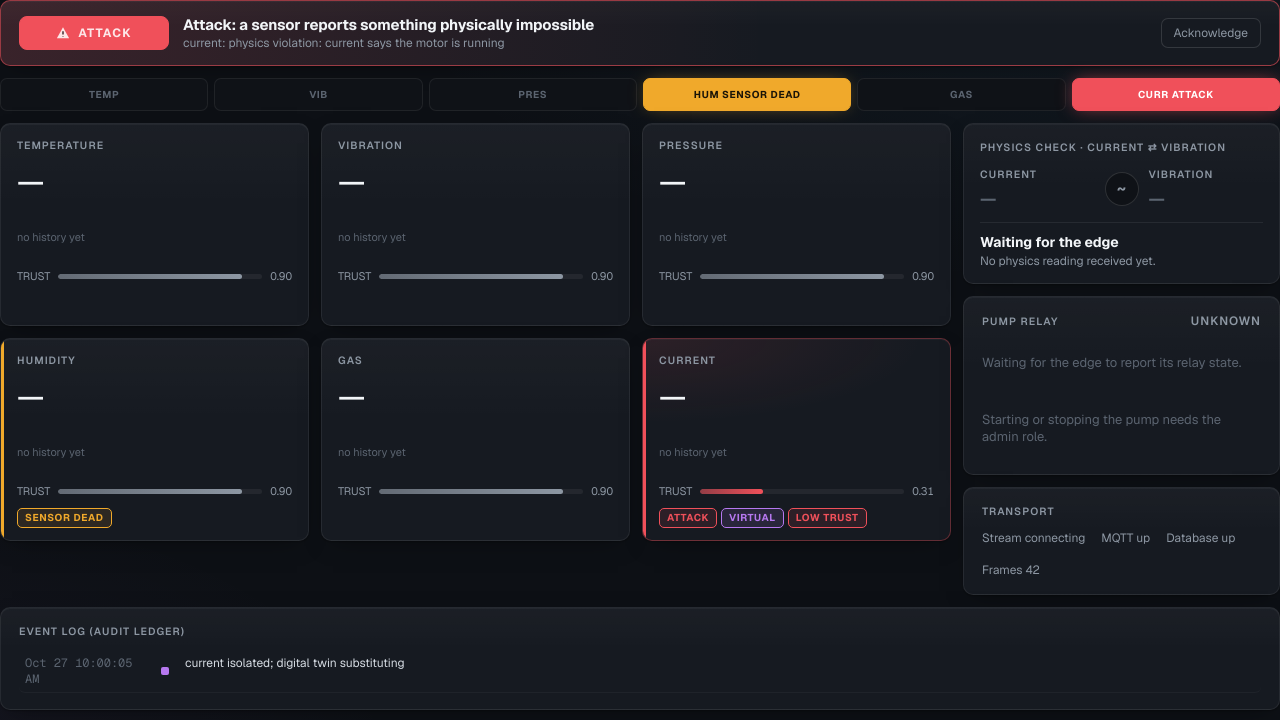
Scenario: ControlRoomPage (D046) › opens a sensor's detail panel from its instrument and closes it with Escape
Click the button with test id "instrument-current": point(687, 360) [642,338,951,541]
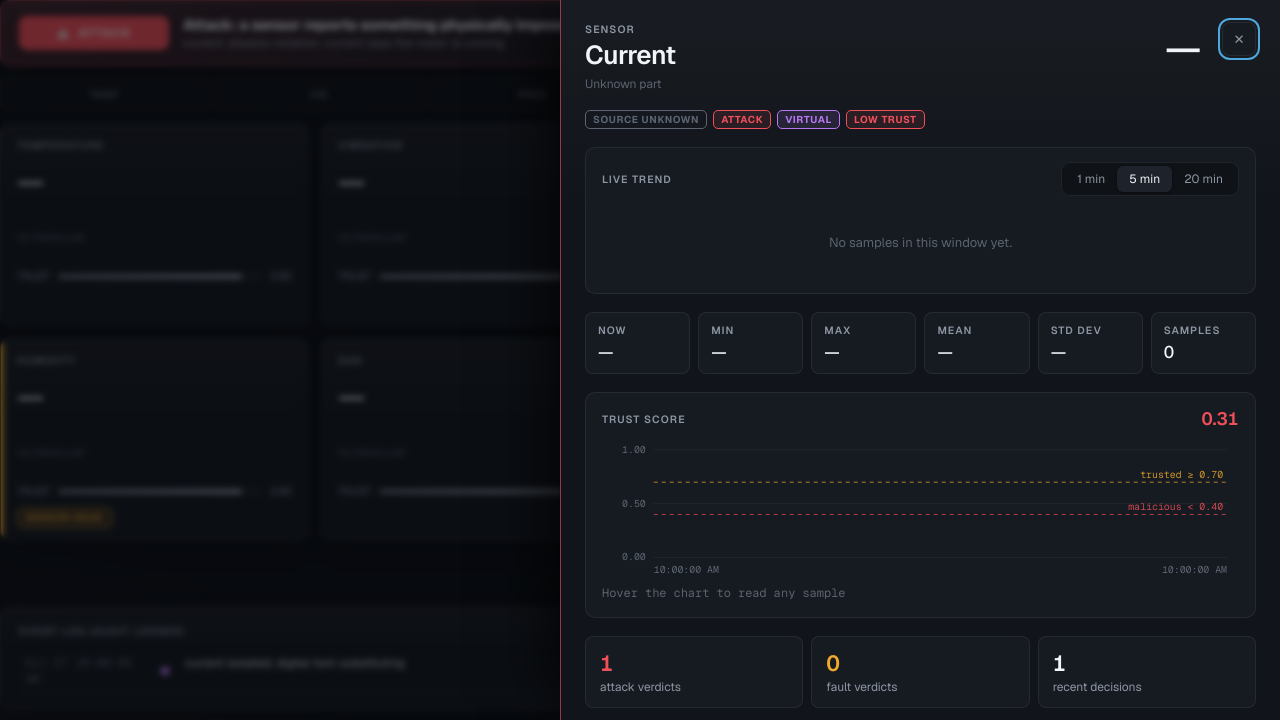
Result: the element with test id "sensor-detail" shows "current" at [585,38,676,72]
Result: the element with test id "sensor-stats" shows "Std dev" at [1051,323,1102,337]
Result: the element with test id "sensor-verdicts" shows "attack verdicts" at [600,679,681,695]
Click the tab with test id "sensor-range-60": point(1091, 179) [1065,166,1117,192]
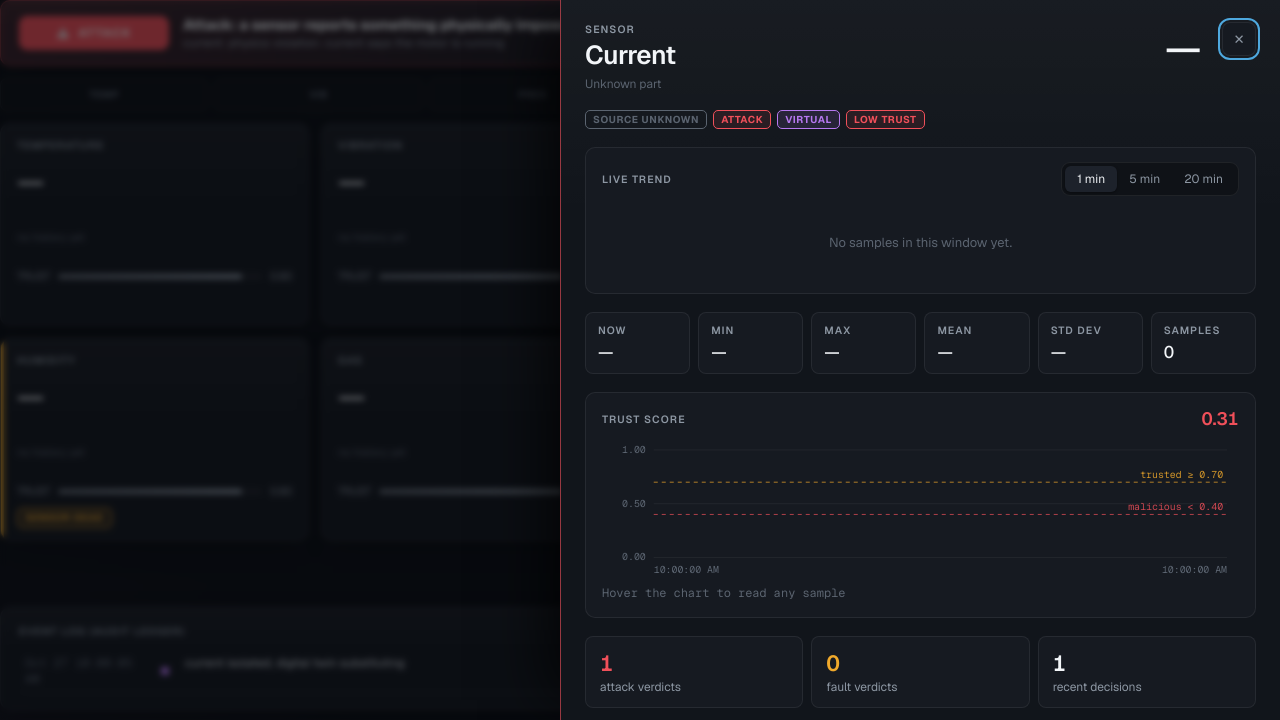
Result: the tab with test id "sensor-range-60" is selected at [1065,166,1117,192]
Press Escape
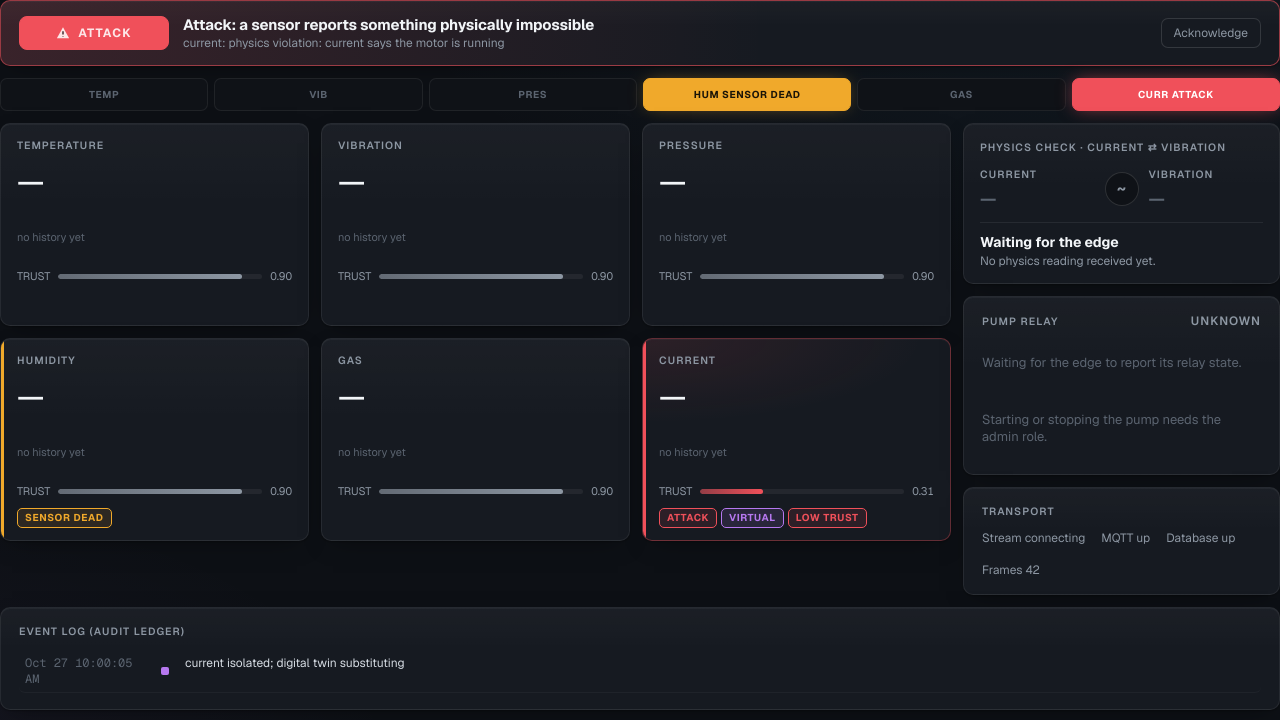
Result: the element with test id "sensor-detail" is gone
